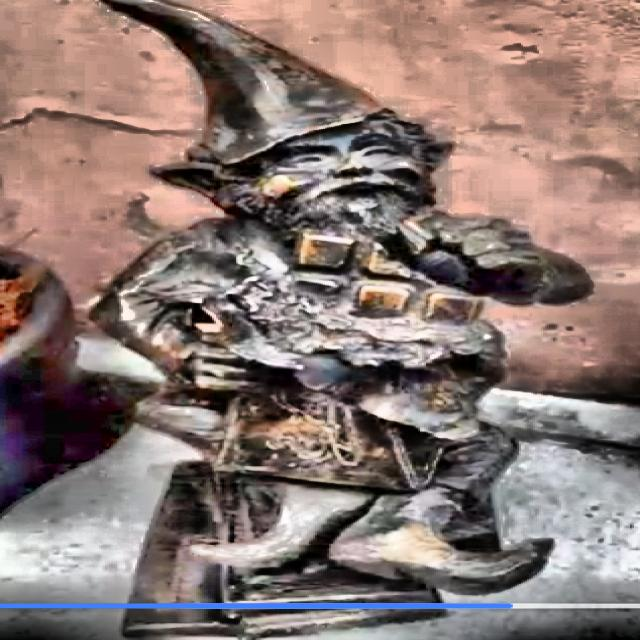Wedelek: (93, 0, 589, 602), (122, 611, 444, 637)
